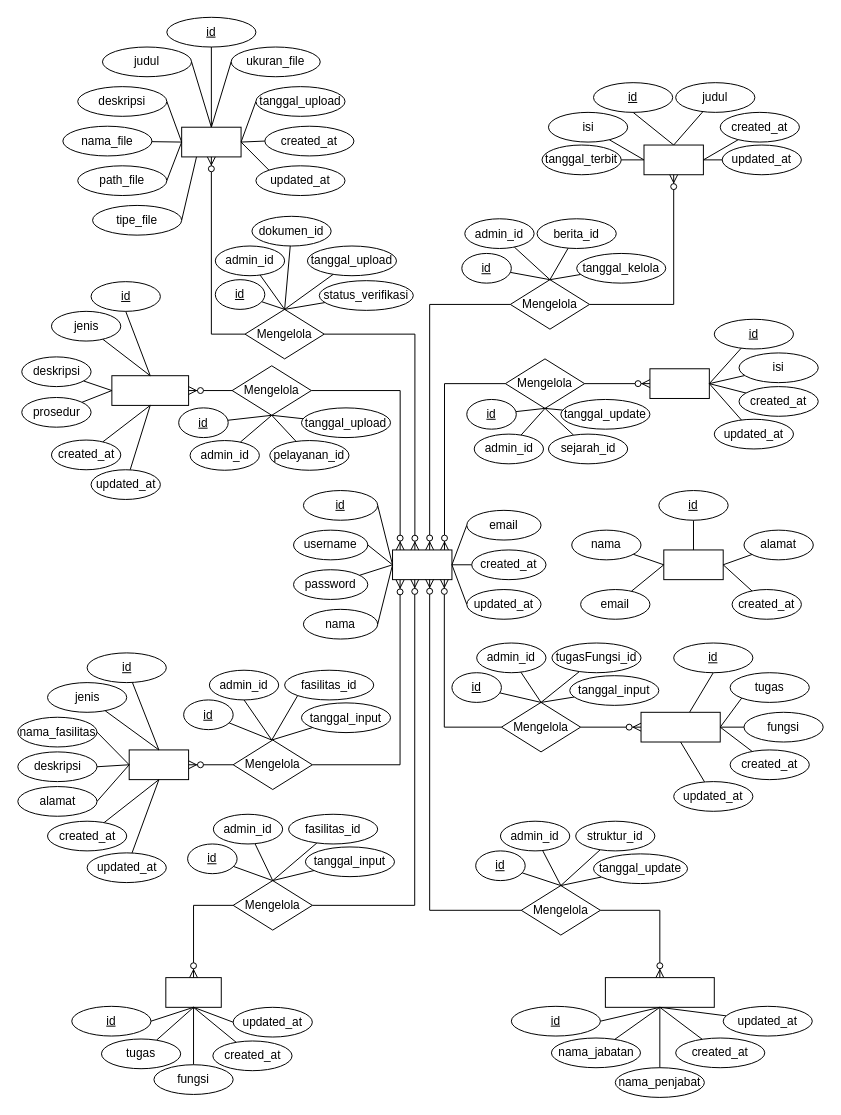
This 841x1115 diagram has some shape labels left out. The centre of each missing label's shape, as x and y in pixels:
"Admin" goes at pixel 422 564.
"Berita" goes at pixel 673 159.
"Dokumen" goes at pixel 211 141.
"Fasilitas" goes at pixel 158 764.
"Pelayanan" goes at pixel 150 390.
"Sejarah" goes at pixel 679 383.
"StrukturOrganisasi" goes at pixel 659 992.
"TugasFungsi" goes at pixel 680 726.
"VisiMisi" goes at pixel 193 992.
"Warga" goes at pixel 693 564.
